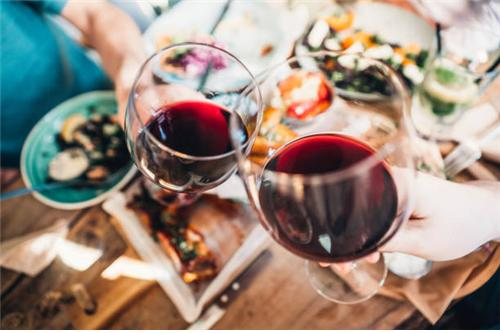alcohol: (230, 51, 416, 307), (123, 42, 264, 211)
